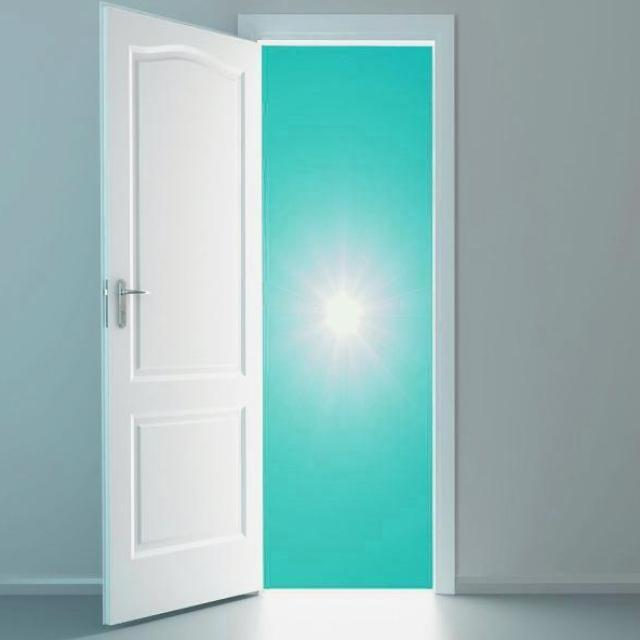door: (99, 3, 263, 625)
